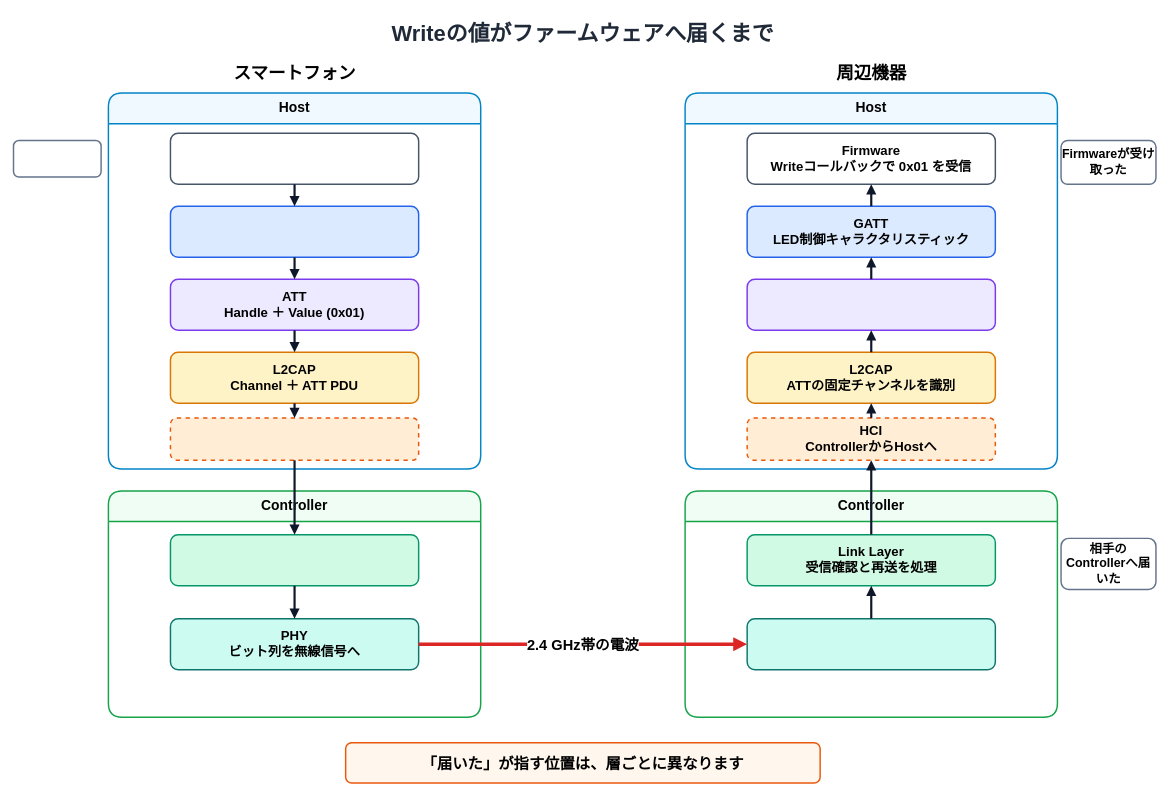
The diagram is 1169 pixels wide and 796 high, and some of its shapes have lost their labels. Each missing label, with the centre of its shape:
"APIへ渡した" belongs at (x=56, y=158).
"Application LEDへ 0x01 をWrite" belongs at (x=294, y=158).
"ATT Handleから書き込み先を特定" belongs at (x=871, y=304).
"GATT サービスとキャラクタリスティック" belongs at (x=294, y=231).
"HCI HostからControllerへ" belongs at (x=294, y=439).
"Link Layer Header ＋ L2CAP" belongs at (x=294, y=560).
"PHY 無線信号からビット列へ" belongs at (x=871, y=644).
